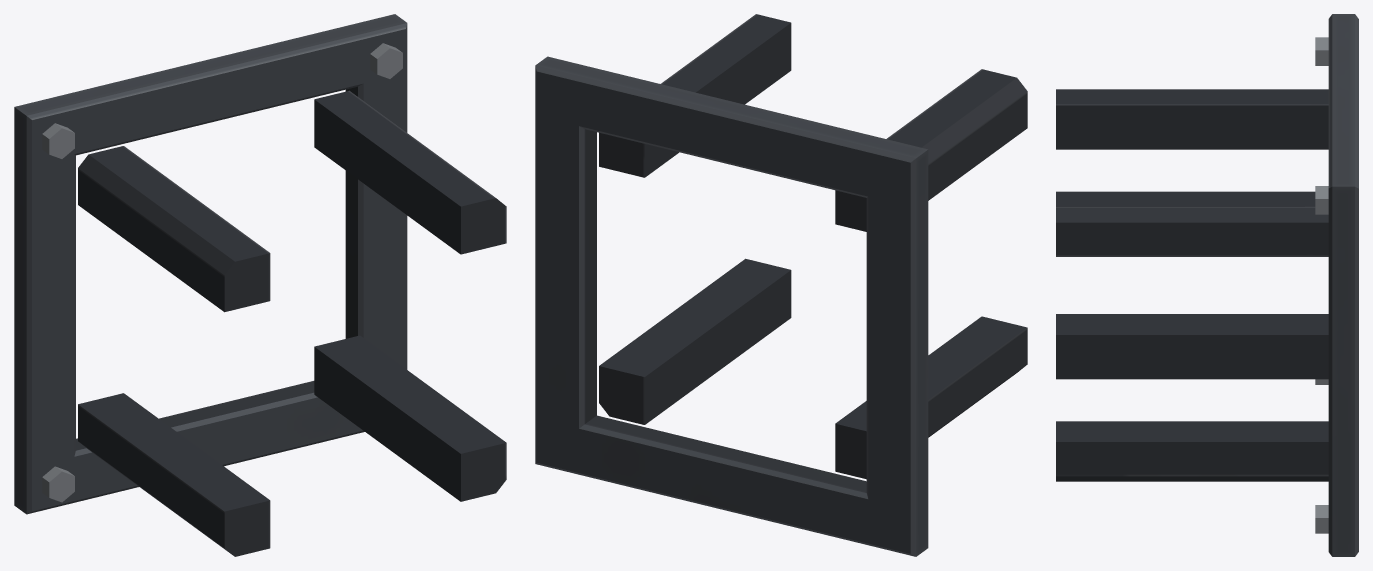
Rendered from half_port_north.obj.
3 views of the same model, side by side, from view 1: azimuth 30°, elevation 25°; view 2: azimuth 150°, elevation 25°; view 3: azimuth 270°, elevation 25° (orthographic). The views are drawn at different scales.
Parts seen in each view (by area): view 1: half_port_port, half_port_rails, half_port_port_nuts; view 2: half_port_port, half_port_rails; view 3: half_port_rails, half_port_port, half_port_port_nuts.
Boxes of the visible parts, x1,y1,x2,y2 form: half_port_port: [14, 14, 407, 514]; half_port_rails: [78, 90, 506, 556]; half_port_port_nuts: [42, 43, 402, 502]; half_port_port: [535, 56, 928, 556]; half_port_rails: [599, 14, 1027, 479]; half_port_rails: [1056, 89, 1328, 481]; half_port_port: [1328, 14, 1358, 556]; half_port_port_nuts: [1315, 37, 1328, 533].
Bounding box in the file's own units: 0.675 × 0.675 × 0.5.
